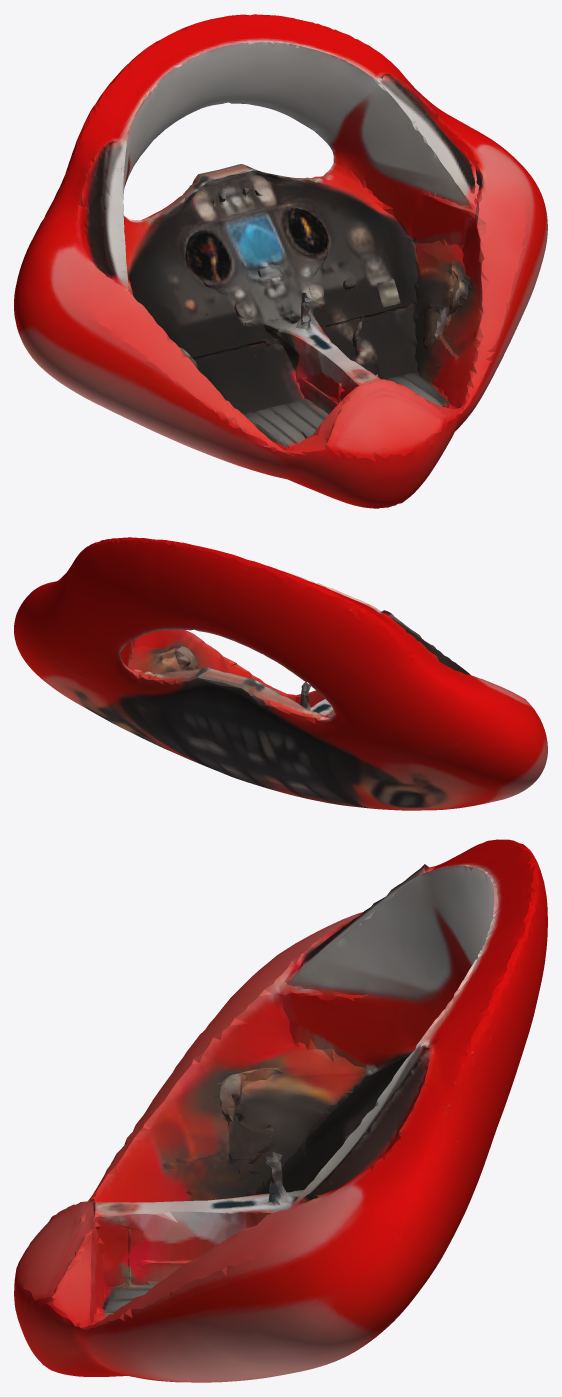
The model's file is viper_cockpit.glb.
3 renders of one model, top to bottom at view 1: azimuth 30°, elevation 25°; view 2: azimuth 150°, elevation 25°; view 3: azimuth 270°, elevation 25°, orthographic. The views are drawn at different scales.
Parts seen in each view (by area): view 1: viper_cockpit; view 2: viper_cockpit; view 3: viper_cockpit.
Part boxes in pixels (<box>): viper_cockpit: <box>14,14,547,508</box>; viper_cockpit: <box>14,537,547,810</box>; viper_cockpit: <box>14,839,547,1382</box>.
Size of the model in its own units: 1.9 by 1.25 by 1.25.
1 material, 1 textured.
